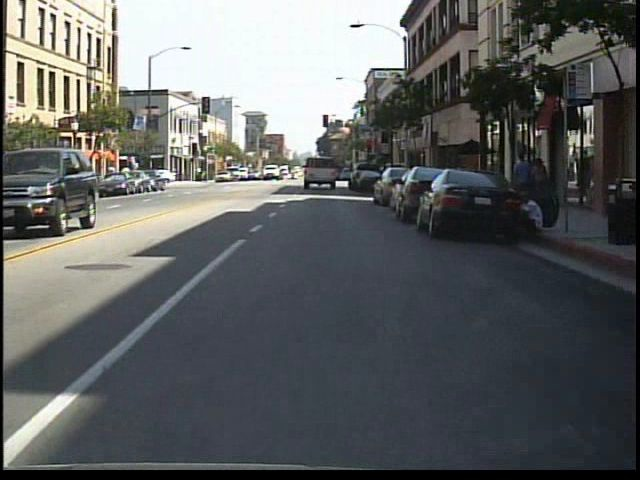person: (508, 149, 534, 219), (528, 157, 552, 217)
